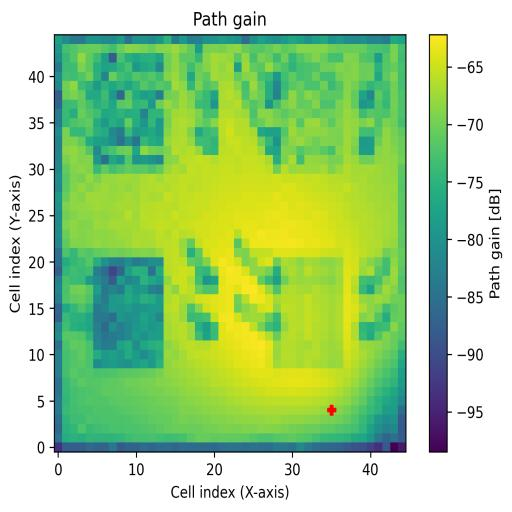Concrete: (273, 54, 344, 173)
Glass: (93, 53, 164, 174)
Metal: (273, 258, 344, 370)
Wood: (94, 258, 164, 368)
